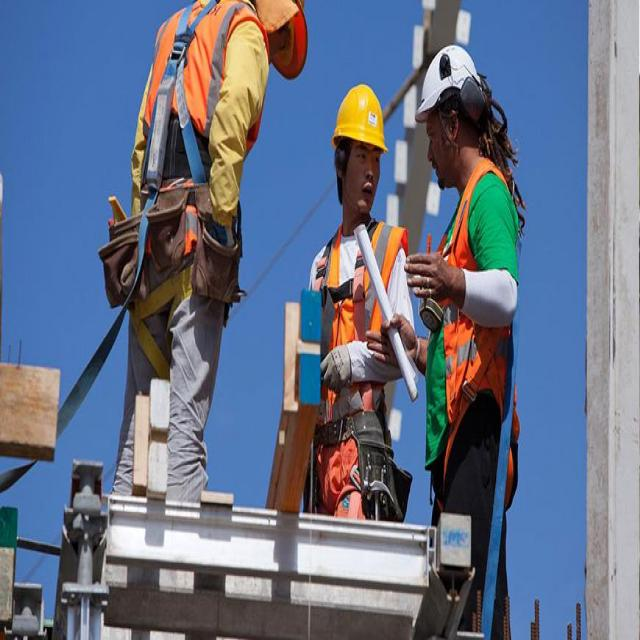Reflective-Jacket: (419, 159, 522, 444), (310, 208, 409, 427)
Safety-Helmet: (412, 38, 485, 127), (329, 78, 390, 160)
